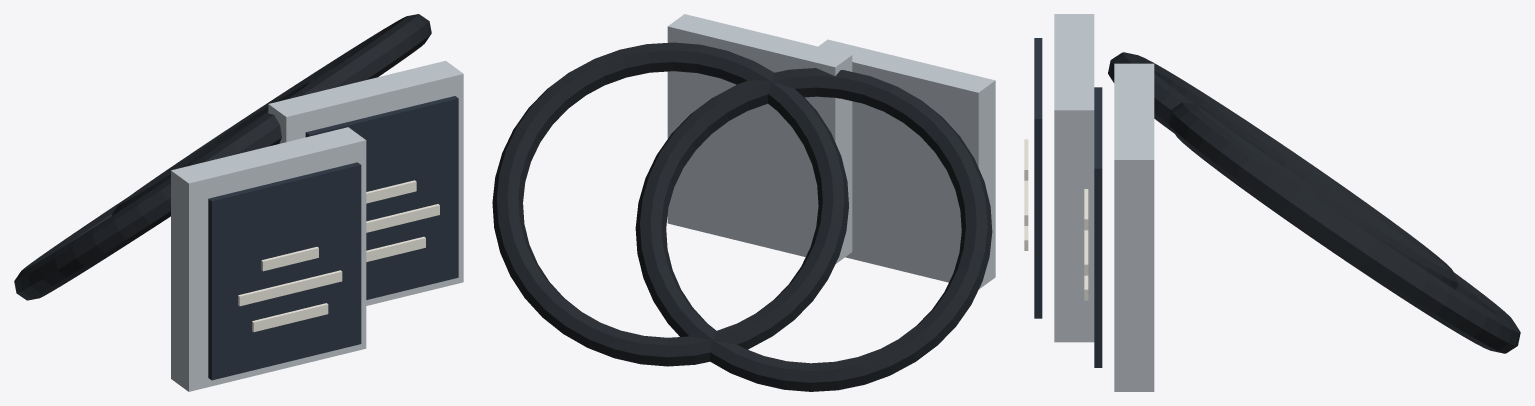
Rendered from watch-smart.glb.
The picture shows the model from 3 angles, left to right: view 1: azimuth 30°, elevation 25°; view 2: azimuth 150°, elevation 25°; view 3: azimuth 270°, elevation 25°; orthographic projection. The views are drawn at different scales.
Visible parts, largest first — view 1: Smart display.001, Smart case.001, Smart display, Wrist band.001, Smart case, Wrist band, Display bar.004, Display bar.003, Display bar.001, Display bar, Display bar.005, Display bar.002; view 2: Wrist band, Wrist band.001, Smart case, Smart case.001; view 3: Wrist band, Smart case, Smart case.001, Wrist band.001, Smart display, Smart display.001.
Boxes of the visible parts, x1,y1,x2,y2 form: Smart display.001: (208,162,361,380); Smart case.001: (171,127,366,391); Smart display: (305,96,458,299); Wrist band.001: (14,82,312,300); Smart case: (268,60,463,305); Wrist band: (112,14,431,215); Display bar.004: (238,270,342,306); Display bar.003: (252,303,328,332); Display bar.001: (366,204,439,232); Display bar: (366,236,425,261); Display bar.005: (261,247,318,271); Display bar.002: (366,180,416,203); Wrist band: (492,42,848,366); Wrist band.001: (635,68,992,391); Smart case: (667,14,852,263); Smart case.001: (818,39,995,289); Wrist band: (1168,102,1520,353); Smart case: (1114,63,1154,391); Smart case.001: (1054,14,1094,342); Wrist band.001: (1108,52,1458,289); Smart display: (1094,87,1102,367); Smart display.001: (1034,38,1042,318).
Size of the model in its own units: 0.1397 by 0.0755 by 0.1241.
